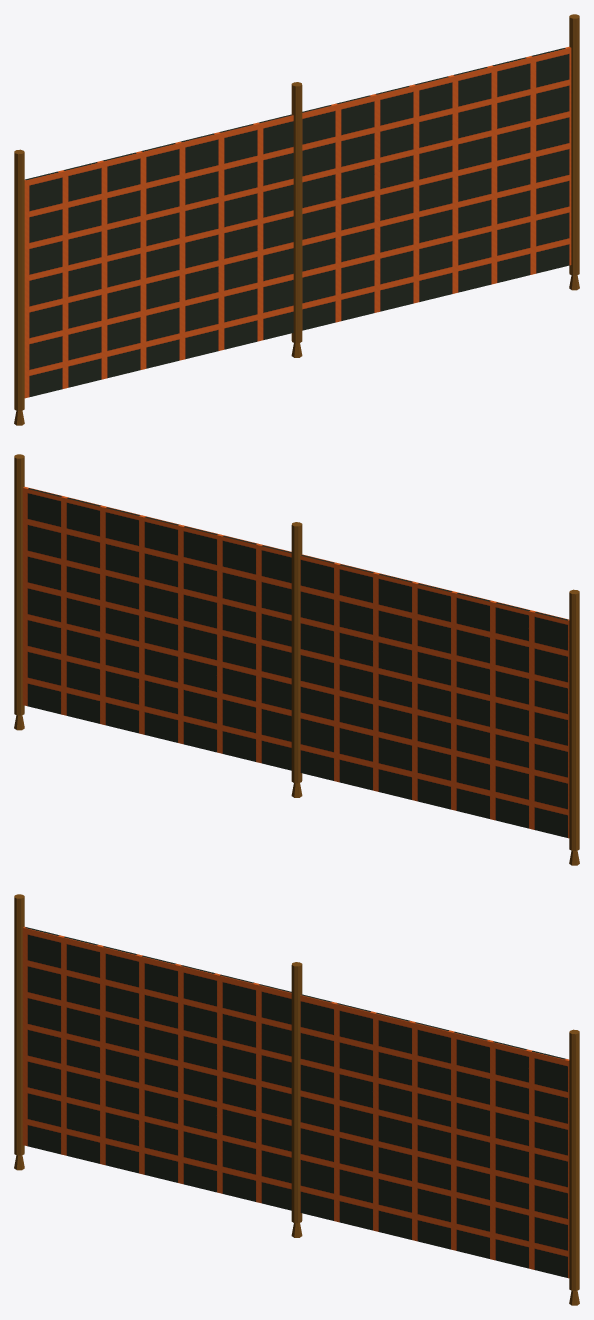
File: safetynet_orange_3m.dae
3 views of the same model, one above another, from view 1: azimuth 30°, elevation 25°; view 2: azimuth 150°, elevation 25°; view 3: azimuth 330°, elevation 25° (orthographic).
Parts seen in each view (by area): view 1: netting, stake_0, stake_1, stake_2; view 2: netting, stake_0, stake_1, stake_2; view 3: netting, stake_2, stake_1, stake_0.
Boxes of the visible parts, x1=… form: netting: x1=24, y1=46, x2=571, y2=398; stake_0: x1=14, y1=149, x2=24, y2=410; stake_1: x1=291, y1=82, x2=302, y2=343; stake_2: x1=569, y1=14, x2=579, y2=275; netting: x1=22, y1=486, x2=569, y2=838; stake_0: x1=569, y1=589, x2=579, y2=850; stake_1: x1=291, y1=522, x2=302, y2=783; stake_2: x1=14, y1=454, x2=24, y2=715; netting: x1=22, y1=926, x2=569, y2=1278; stake_2: x1=569, y1=1029, x2=579, y2=1290; stake_1: x1=291, y1=962, x2=302, y2=1223; stake_0: x1=14, y1=894, x2=24, y2=1155.
Size of the model in its own units: 2.99 by 0.05 by 1.37.
Materials: 2 (2 with a texture image).
